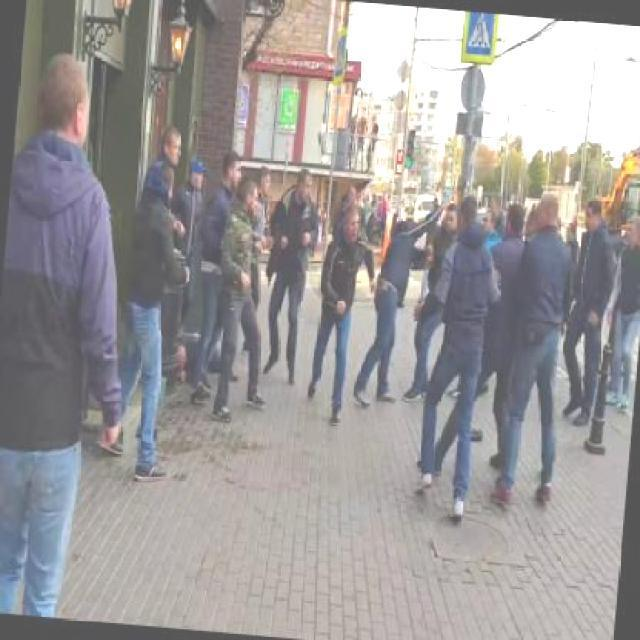fight: (357, 180, 460, 408)
non-fight: (111, 124, 211, 480), (191, 161, 277, 421), (260, 162, 326, 388)
